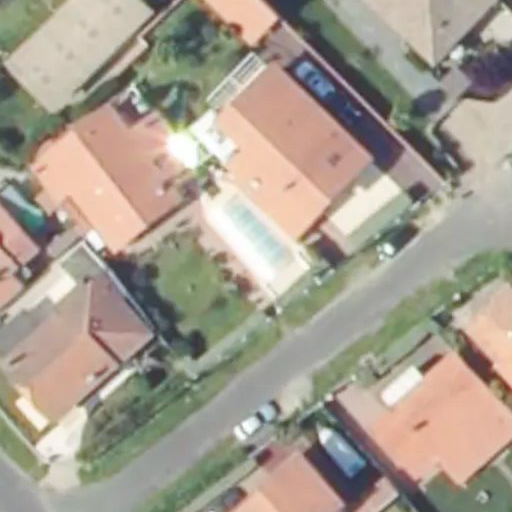pool: (216, 194, 291, 277)
